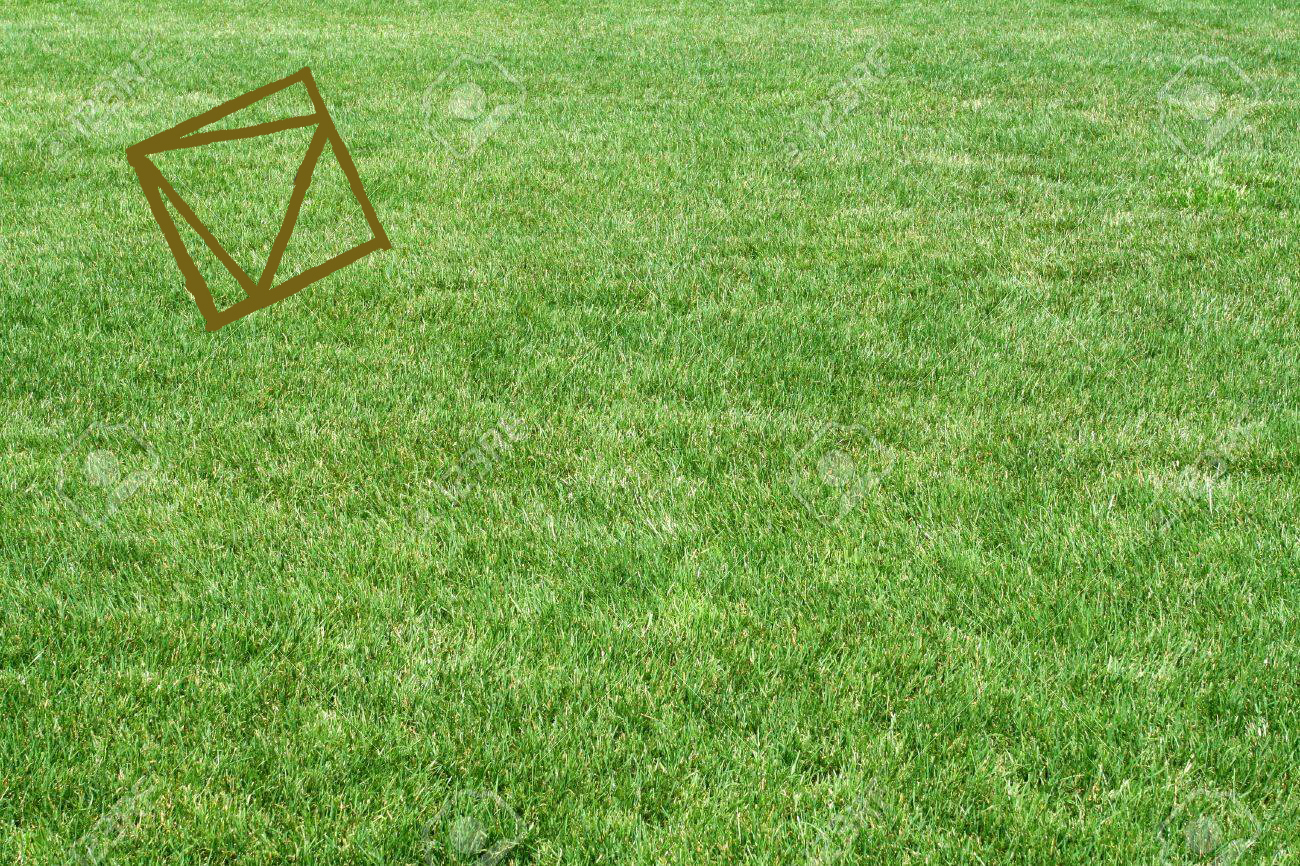marker: (113, 61, 398, 342)
